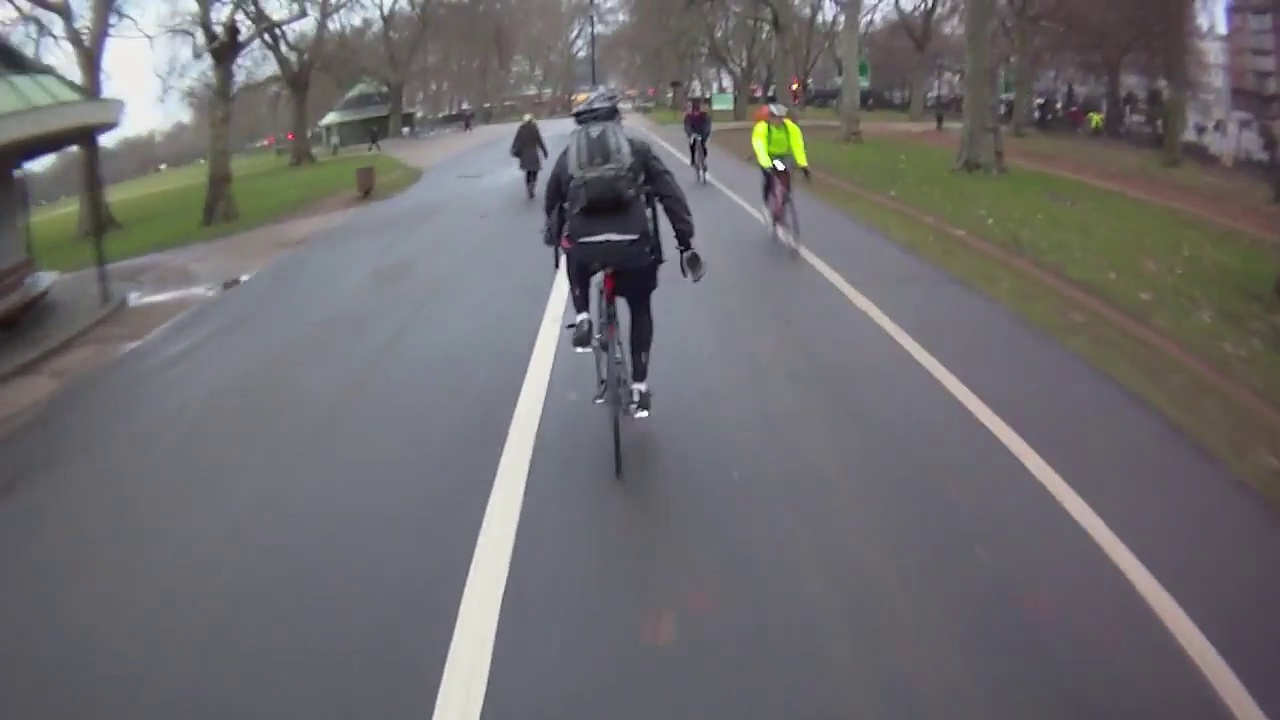cyclist_back: (536, 84, 697, 478)
cyclist_front: (752, 95, 814, 266), (675, 83, 717, 186)
